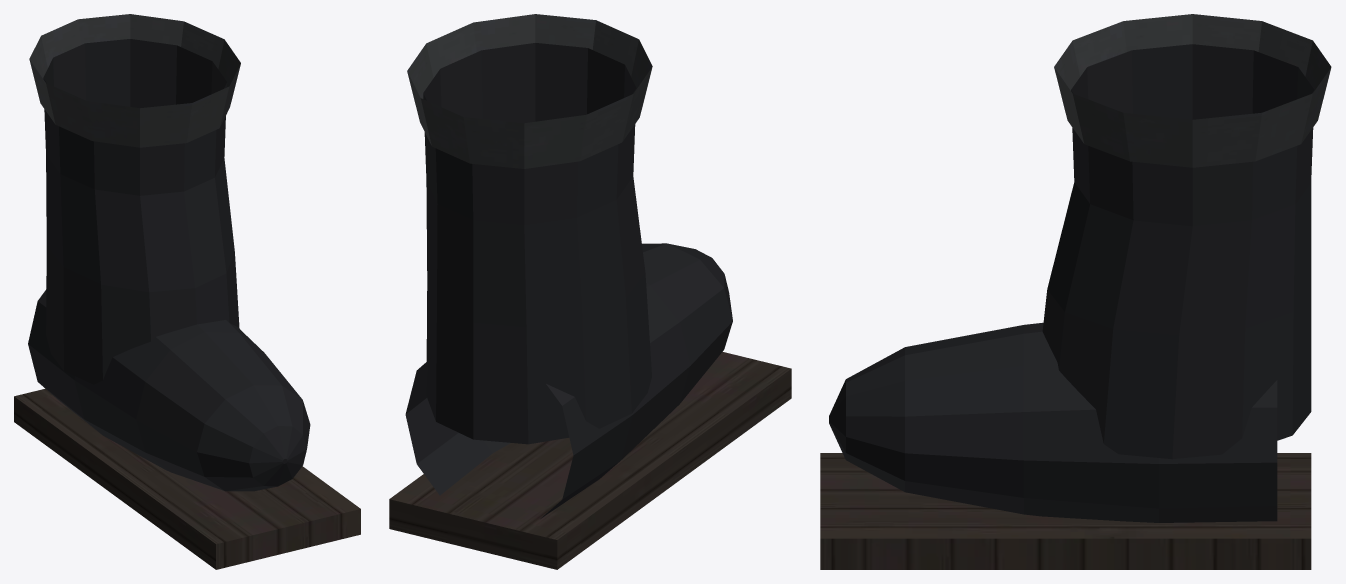
The model's file is eq_present_3_boot.glb.
3 views of the same model, side by side, from view 1: azimuth 30°, elevation 25°; view 2: azimuth 150°, elevation 25°; view 3: azimuth 270°, elevation 25° (orthographic). The views are drawn at different scales.
Parts seen in each view (by area): view 1: eq_present_3_boot; view 2: eq_present_3_boot; view 3: eq_present_3_boot.
Boxes of the visible parts, x1,y1,x2,y2 form: eq_present_3_boot: [14, 14, 360, 569]; eq_present_3_boot: [389, 14, 791, 569]; eq_present_3_boot: [820, 14, 1331, 569].
Bounding box in the file's own units: 0.1598 × 0.324 × 0.3262.
Materials: 3 (2 with a texture image).
